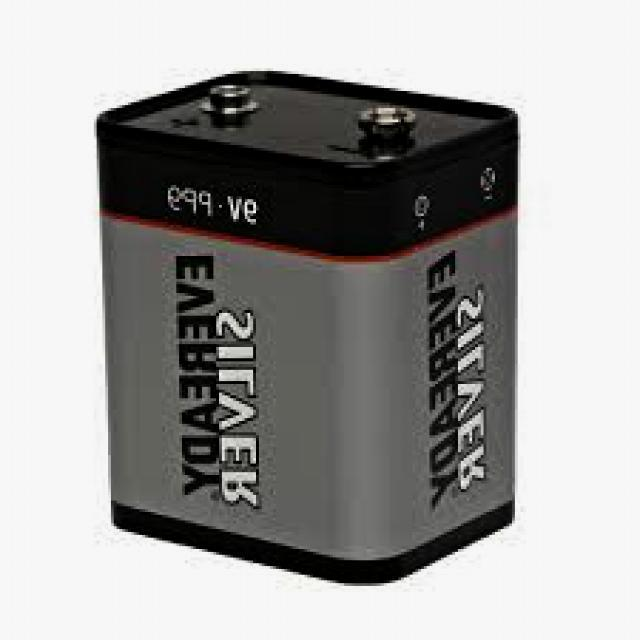battery: (96, 71, 519, 585)
